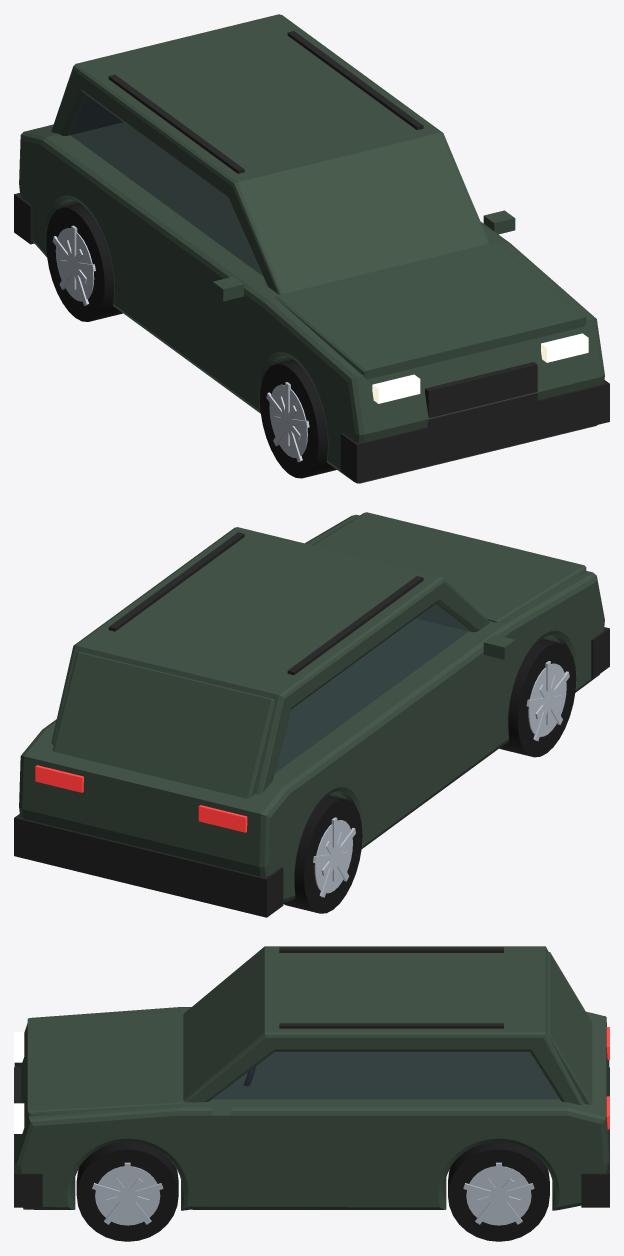
Rendered from SUV.glb.
The picture shows the model from 3 angles, top to bottom: view 1: azimuth 30°, elevation 25°; view 2: azimuth 150°, elevation 25°; view 3: azimuth 270°, elevation 25°; orthographic projection. The views are drawn at different scales.
Visible parts, largest first — view 1: BodyRoofPanel, BodyPanels, BodyHood, BodyFrontBumper, BodyWindshield, BodyFrontGrille, TireFrontR, TireRearR, BodyRoofRailR, BodyRoofRailL, WheelRearRRim, WheelFrontRRim (+4 smaller); view 2: BodyPanels, BodyRoofPanel, BodyRearPanels, BodyHood, BodyRearBumper, BodyWindshield, TireRearR, TireFrontR, BodyRoofRailR, BodyRoofRailL, WheelFrontRRim, WheelRearRRim (+4 smaller); view 3: BodyPanels, BodyRoofPanel, BodyHood, BodyWindshield, TireFrontL, TireRearL, BodyRearPanels, WheelFrontLRim, WheelRearLRim, BodyRoofRailR, BodyRoofRailL, BodyRearBumper (+1 smaller).
Part boxes in pixels (box(x1,y1,x2,y2)): BodyRoofPanel: box(51, 14, 489, 294); BodyPanels: box(19, 122, 604, 483); BodyHood: box(275, 242, 586, 379); BodyFrontBumper: box(340, 380, 609, 483); BodyWindshield: box(70, 96, 262, 275); BodyFrontGrille: box(425, 362, 537, 427); TireFrontR: box(260, 360, 336, 478); TireRearR: box(46, 203, 122, 321); BodyRoofRailR: box(108, 74, 244, 173); BodyRoofRailL: box(287, 31, 423, 130); WheelRearRRim: box(55, 228, 94, 301); WheelFrontRRim: box(269, 384, 307, 457); BodyPanels: box(19, 514, 604, 902); BodyRoofPanel: box(51, 527, 489, 794); BodyRearPanels: box(52, 651, 274, 798); BodyHood: box(312, 512, 586, 622); BodyRearBumper: box(14, 814, 283, 917); BodyWindshield: box(274, 605, 468, 773); TireRearR: box(283, 795, 362, 913); TireFrontR: box(499, 638, 576, 757); BodyRoofRailR: box(287, 576, 423, 675); BodyRoofRailL: box(108, 532, 244, 631); WheelFrontRRim: box(528, 663, 566, 736); WheelRearRRim: box(314, 820, 352, 893); BodyPanels: box(14, 1007, 609, 1210); BodyRoofPanel: box(183, 946, 584, 1105); BodyHood: box(27, 1010, 182, 1118); BodyWindshield: box(213, 1051, 558, 1099); TireFrontL: box(76, 1141, 178, 1241); TireRearL: box(448, 1141, 549, 1241); BodyRearPanels: box(547, 952, 592, 1104); WheelFrontLRim: box(95, 1166, 160, 1225); WheelRearLRim: box(466, 1166, 531, 1225); BodyRoofRailR: box(279, 947, 503, 952); BodyRoofRailL: box(279, 1023, 503, 1028); BodyRearBumper: box(581, 1067, 609, 1207).
Bounding box in the file's own units: 2.24 × 1.69 × 4.56.
